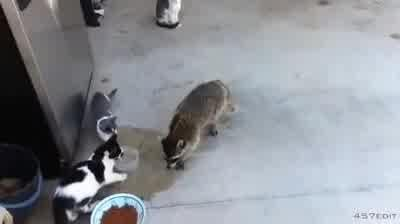raccoon: (161, 78, 237, 172)
